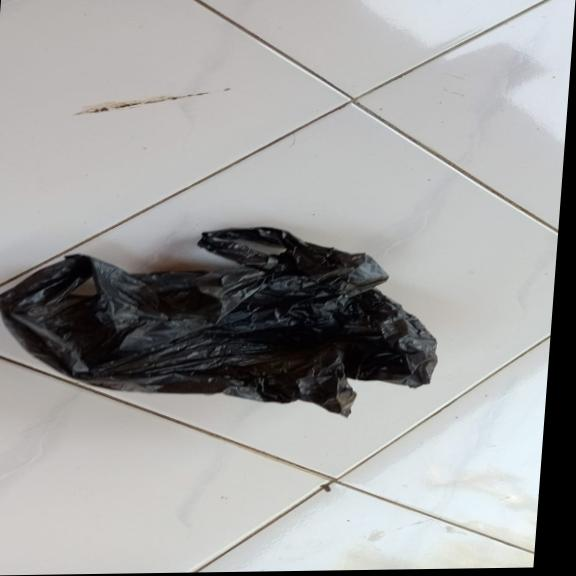Plastik: (0, 224, 445, 424)
